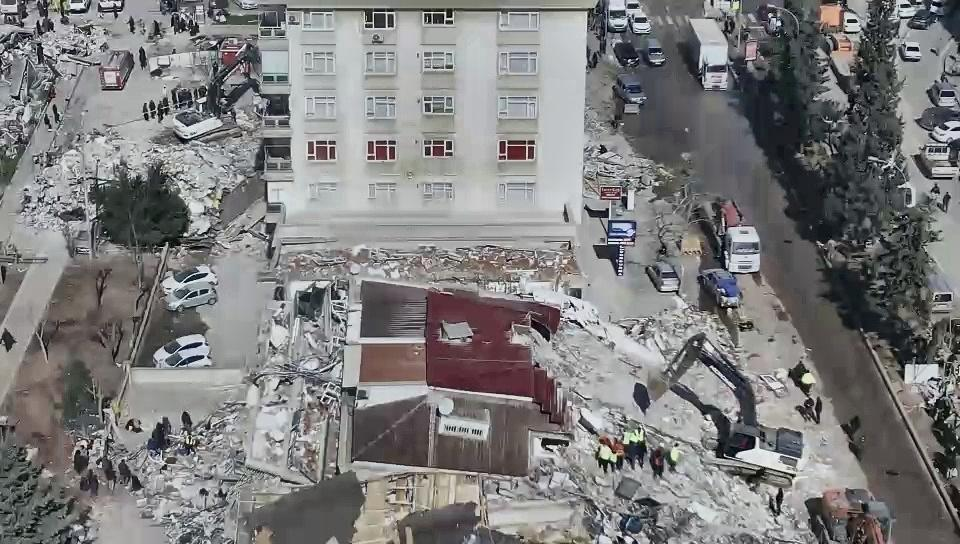kapali: (7, 86, 174, 253)
